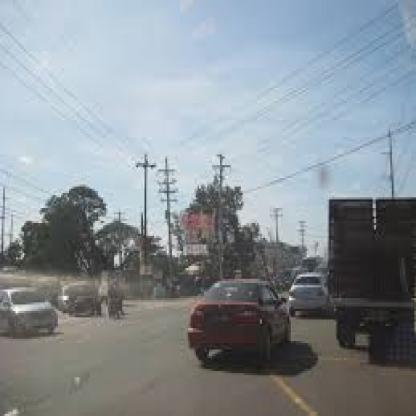car: (292, 175, 416, 376), (178, 262, 296, 375), (0, 276, 68, 366), (276, 266, 338, 321), (46, 270, 99, 326)
